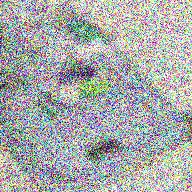러키펜정: (57, 85, 80, 103)
씨엠지세파클러캡슐: (55, 56, 78, 86)
에르도캡슐: (68, 19, 105, 45)
휴티렌정: (78, 80, 111, 95)
